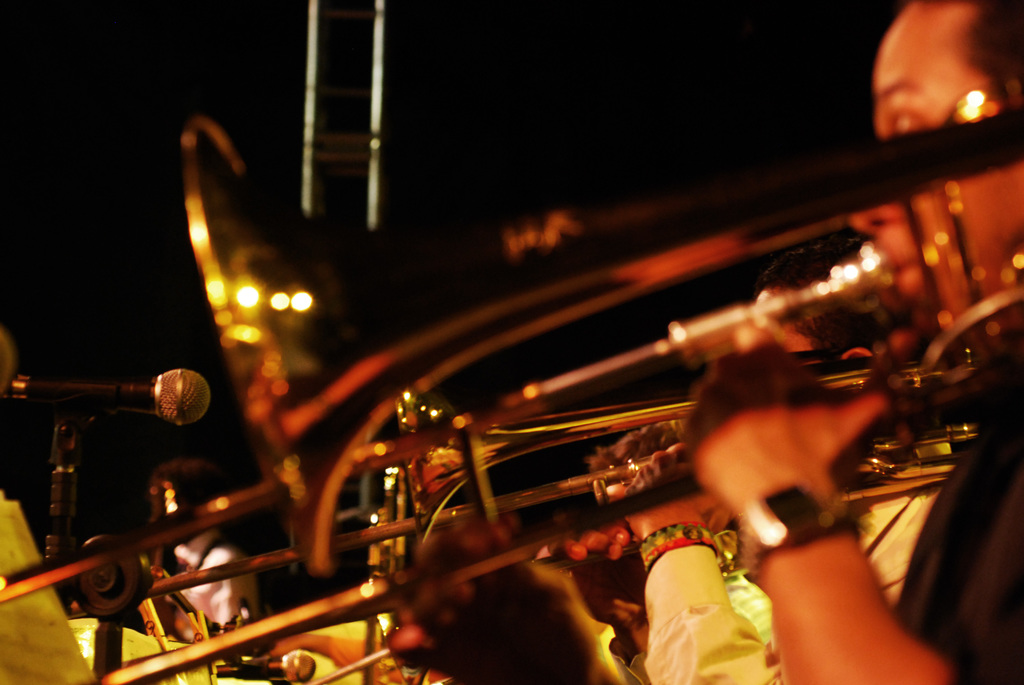Human_hand: (675, 335, 893, 516), (379, 519, 610, 684), (864, 10, 1010, 154), (618, 437, 721, 542), (269, 632, 313, 659)
